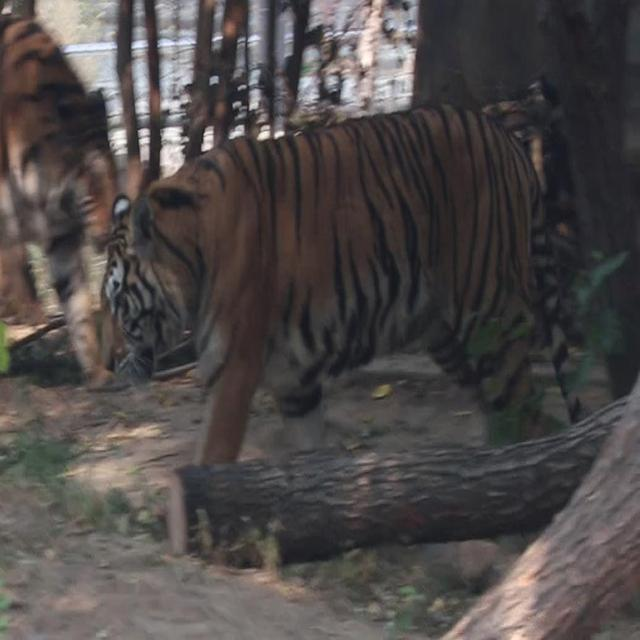tiger: (98, 73, 576, 470), (0, 11, 124, 391)
